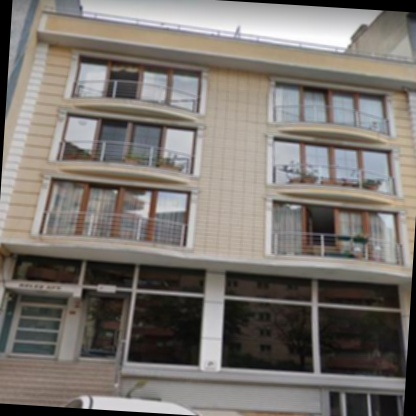door: (0, 292, 68, 357), (75, 294, 127, 363)
